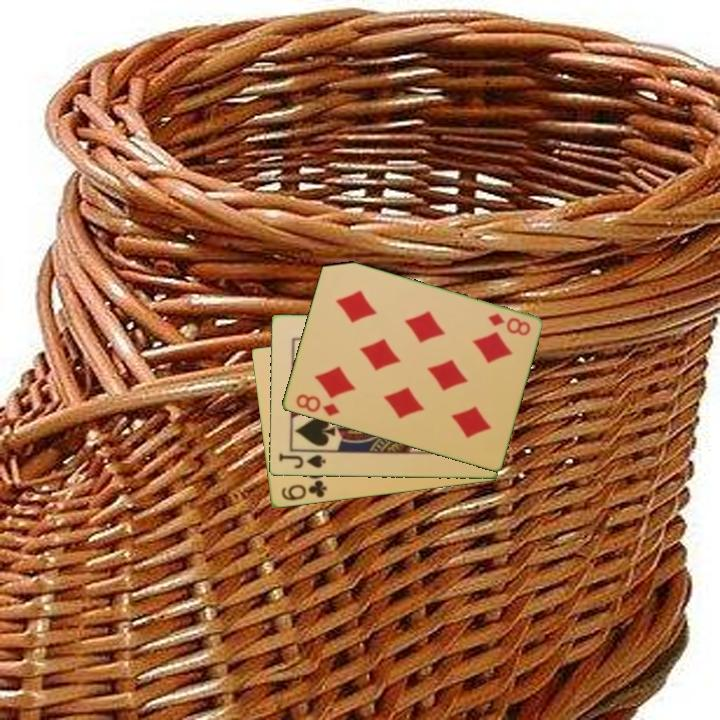6c: (277, 477, 329, 504)
8d: (292, 390, 342, 419), (484, 310, 533, 339)
Js: (275, 450, 328, 471)
